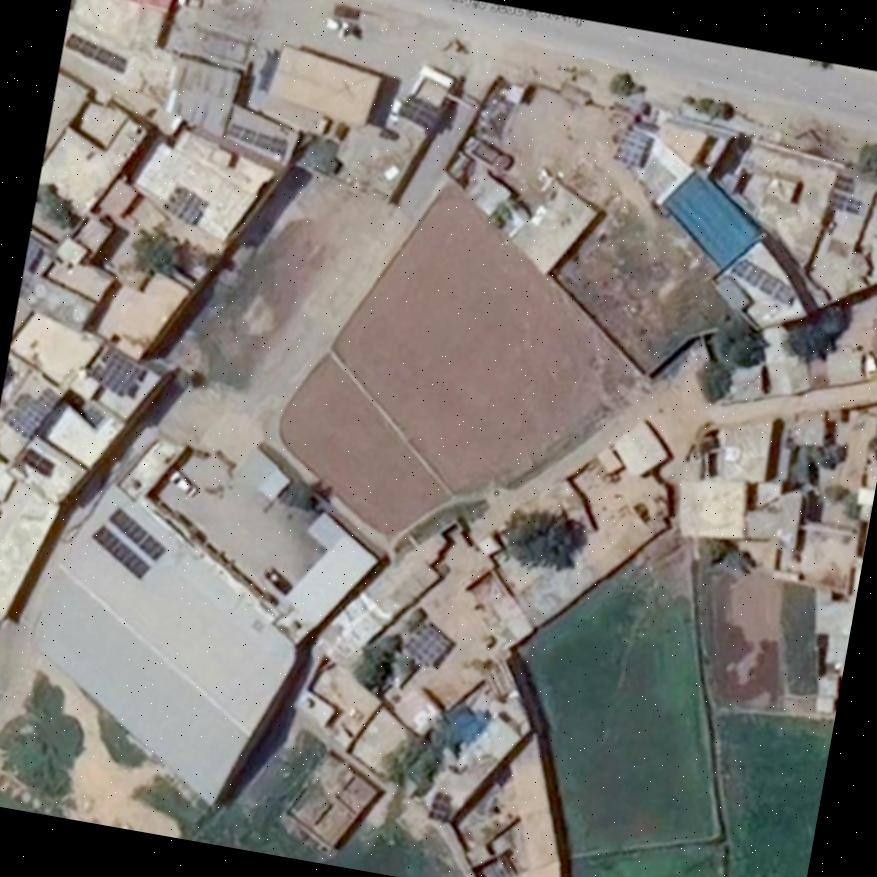Solarpanel: (90, 524, 150, 576), (0, 387, 57, 438), (108, 509, 163, 558), (64, 33, 126, 75), (733, 258, 792, 301), (89, 350, 141, 397), (403, 622, 450, 668), (225, 124, 287, 153), (166, 186, 208, 225), (610, 126, 649, 165), (398, 95, 440, 130)
